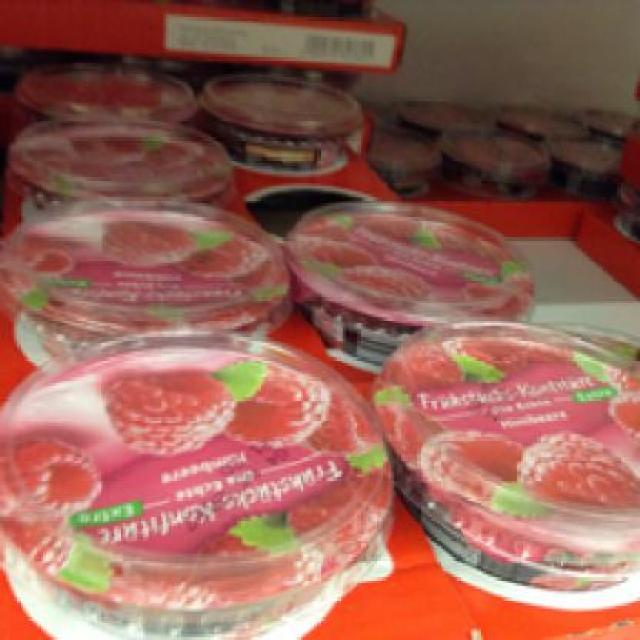Jam: (0, 323, 389, 637), (368, 314, 638, 583), (283, 194, 543, 357), (0, 197, 289, 337), (3, 111, 226, 198), (200, 60, 360, 169)
